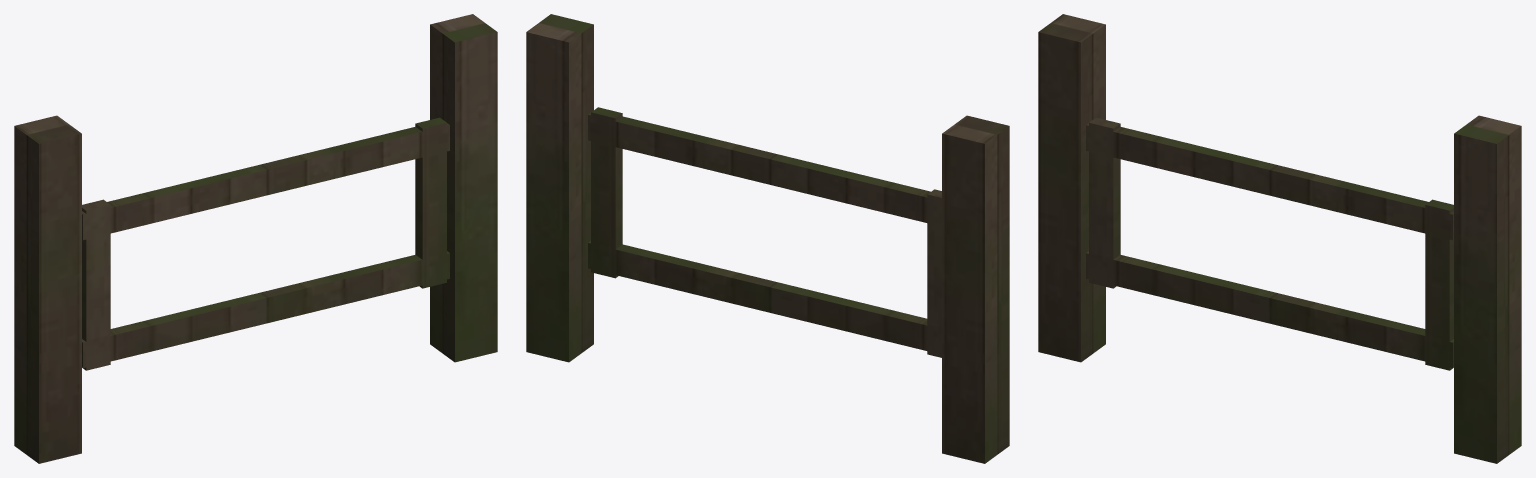
File: prp_plotfence_gate_a_LOD1.glb
The picture shows the model from 3 angles, left to right: view 1: azimuth 30°, elevation 25°; view 2: azimuth 150°, elevation 25°; view 3: azimuth 330°, elevation 25°; orthographic projection.
Visible parts, largest first — view 1: prp_plotfence_gate_a_wood; view 2: prp_plotfence_gate_a_wood; view 3: prp_plotfence_gate_a_wood.
Boxes of the visible parts, <box> form: prp_plotfence_gate_a_wood: <box>14,14,497,463</box>; prp_plotfence_gate_a_wood: <box>526,14,1009,463</box>; prp_plotfence_gate_a_wood: <box>1038,14,1521,463</box>.
Bounding box in the file's own units: 1.5 × 1 × 0.14.
Materials: 1 (1 with a texture image).
